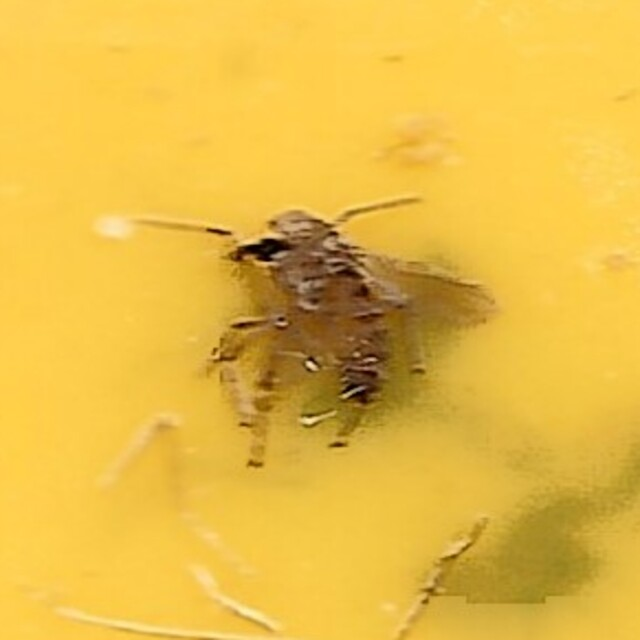Nematocera: (220, 191, 420, 449)
